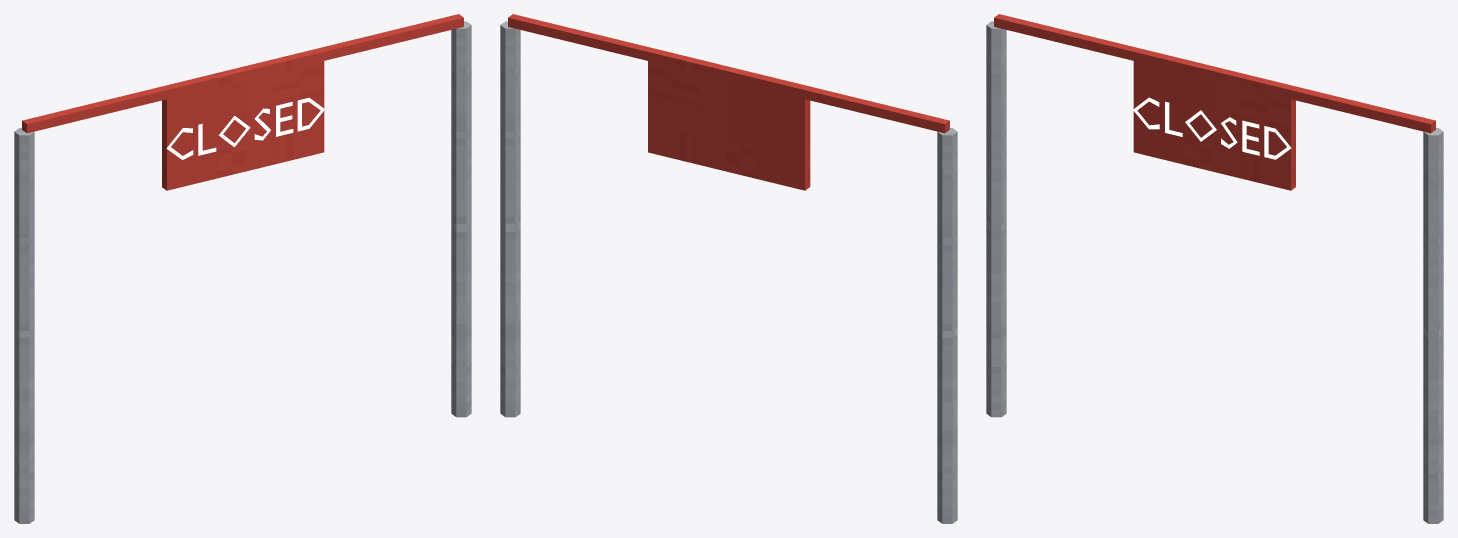
The picture shows the model from 3 angles, left to right: view 1: azimuth 30°, elevation 25°; view 2: azimuth 150°, elevation 25°; view 3: azimuth 330°, elevation 25°; orthographic projection.
Parts seen in each view (by area): view 1: Decor_lane_closed_chain; view 2: Decor_lane_closed_chain; view 3: Decor_lane_closed_chain.
Boxes of the visible parts, <box> form: Decor_lane_closed_chain: <box>14,14,471,523</box>; Decor_lane_closed_chain: <box>500,14,957,523</box>; Decor_lane_closed_chain: <box>986,14,1443,523</box>.
Size of the model in its own units: 1.03 by 0.87 by 0.04.
Materials: 3 (2 with a texture image).
